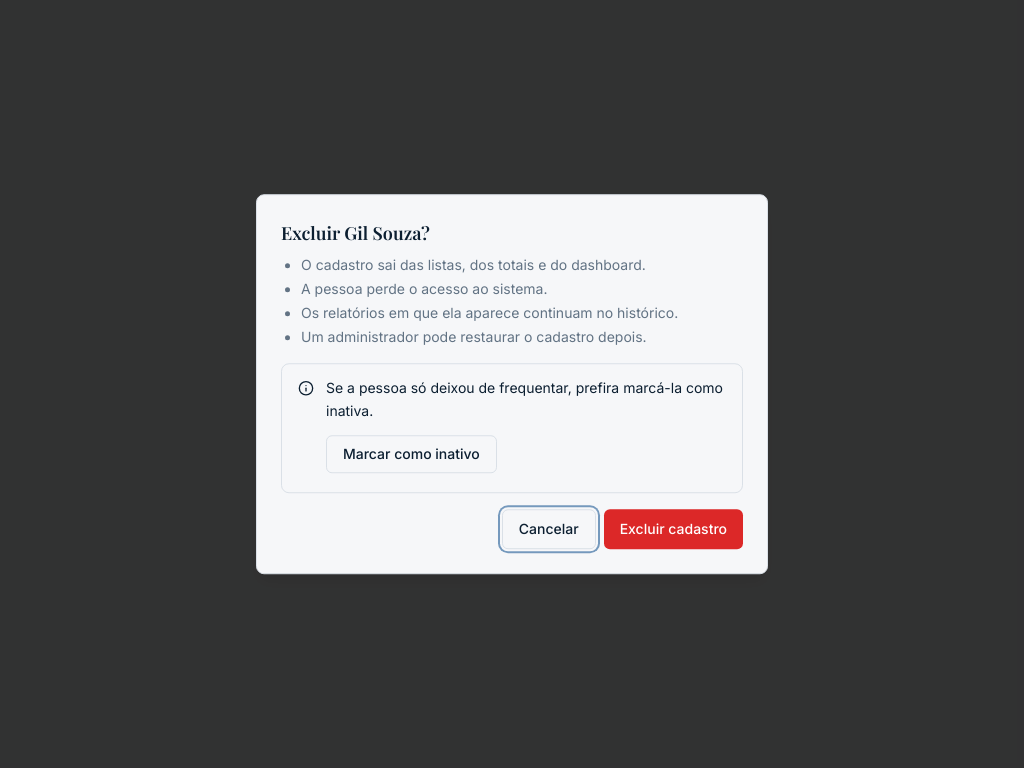
MemberDeletionFlow: envio e lista (UX-06, UX-07, UX-24) › UX-06: enquanto exclui, Esc não fecha o diálogo e 'Marcar como inativo' fica indisponível
The width and height of the screenshot is (1024, 768).
Later steps or results of the test are not shown.
Step 1. Click the button "Excluir cadastro" → click(673, 529), box [604,509,743,549]
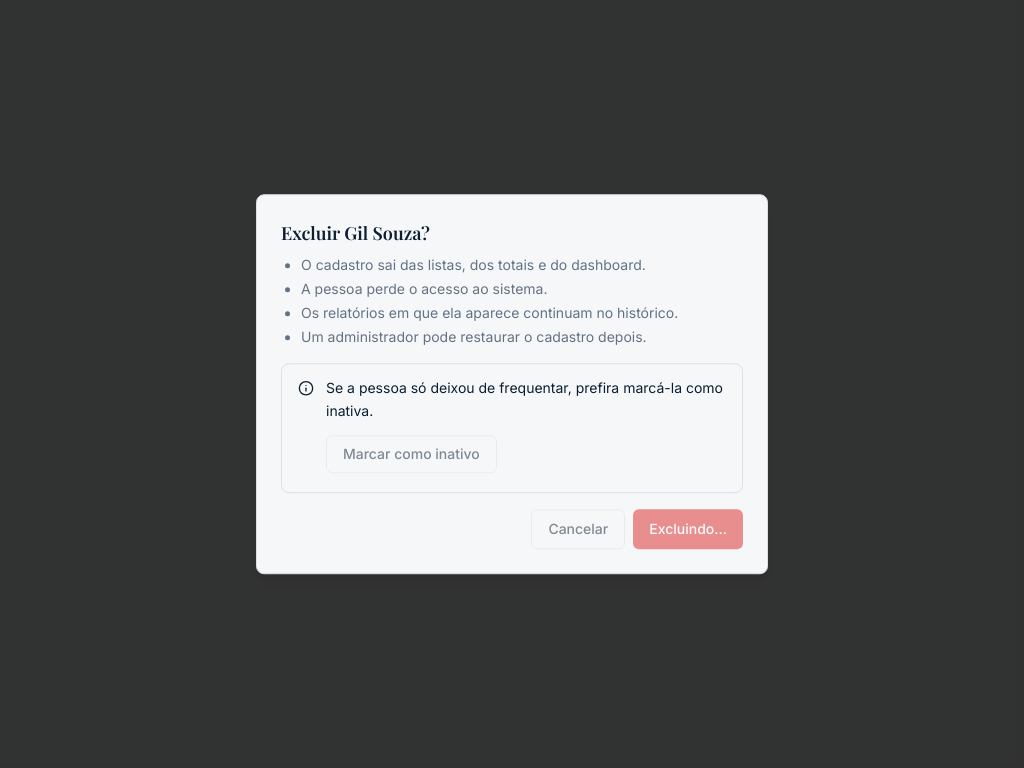
Expected: the button "Excluindo…" is disabled, [633,509,743,549]
Expected: the button "Marcar como inativo" is disabled, [326,435,497,473]
